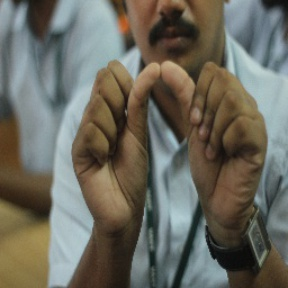A: (84, 55, 242, 193)
